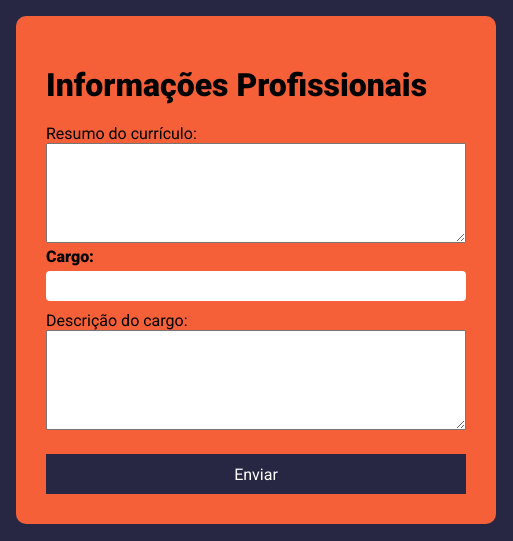
Test: 01 - Implementando as rotas e estrutura das páginas › Formulário de dados profissionais redireciona corretamente para o a tela de resumo das informações quando está preenchido
The width and height of the screenshot is (513, 541).
Type "Currículo Teste" into the text box labelled "Resumo do currículo:" at (256, 193), box [46,143,466,243]
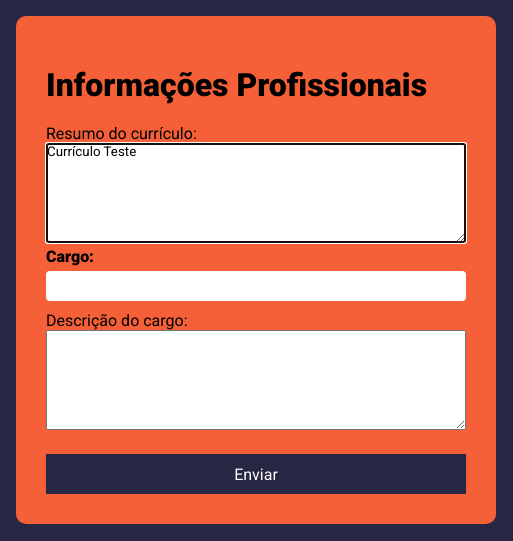
Type "Cargo Teste" into the field labelled "Cargo:" at (256, 286), box [46,271,466,301]
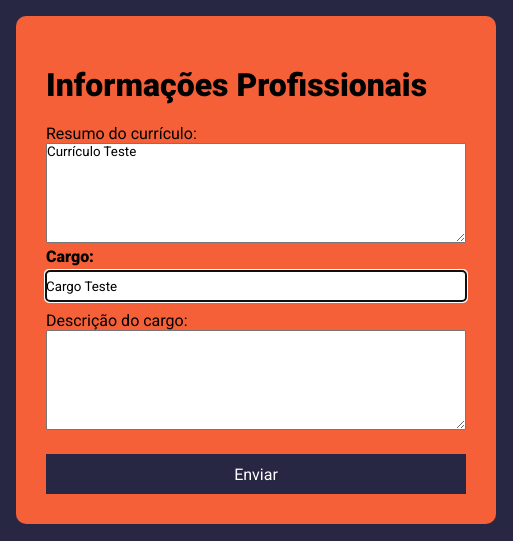
Type "Descrição Teste" into the text box labelled "Descrição do cargo:" at (256, 380), box [46,330,466,430]
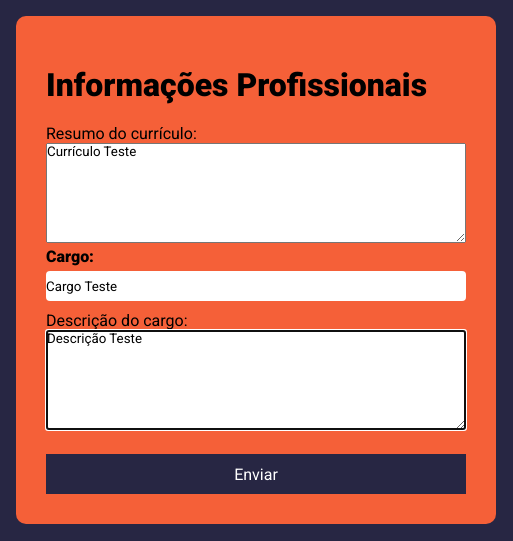
Click the button "Enviar" at (256, 474), box [46,454,466,494]
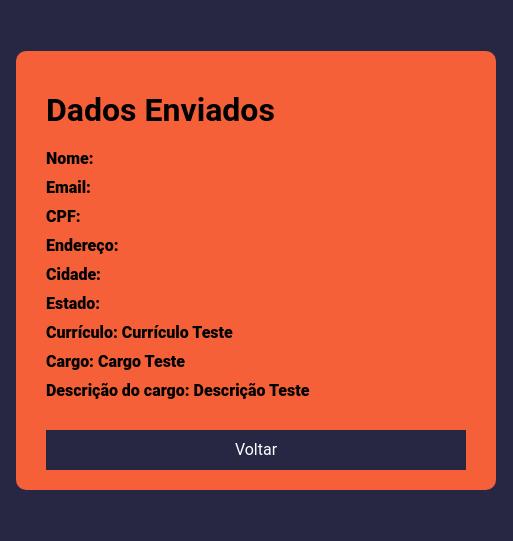
Expected: the heading "Dados Enviados" is shown, [46,90,275,128]
